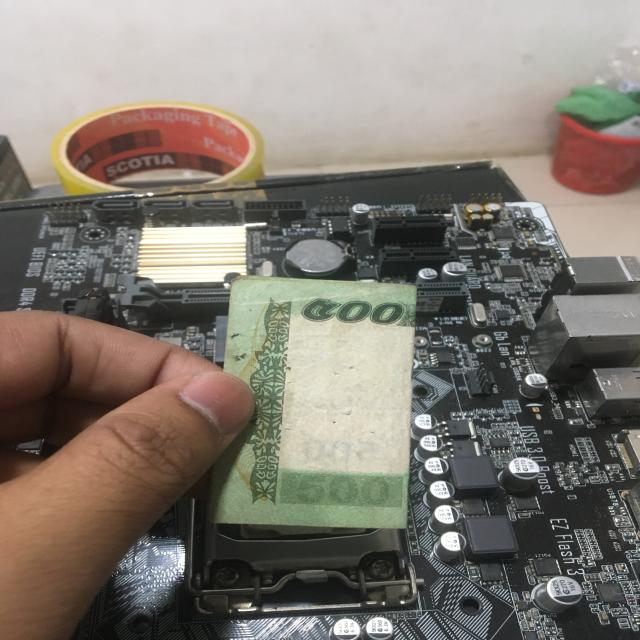Taka: (228, 278, 408, 529)
